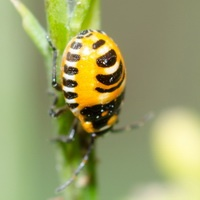insect: (51, 30, 125, 190)
